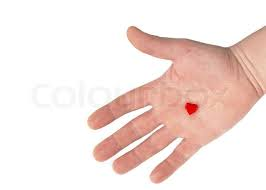hand: (76, 17, 262, 185)
